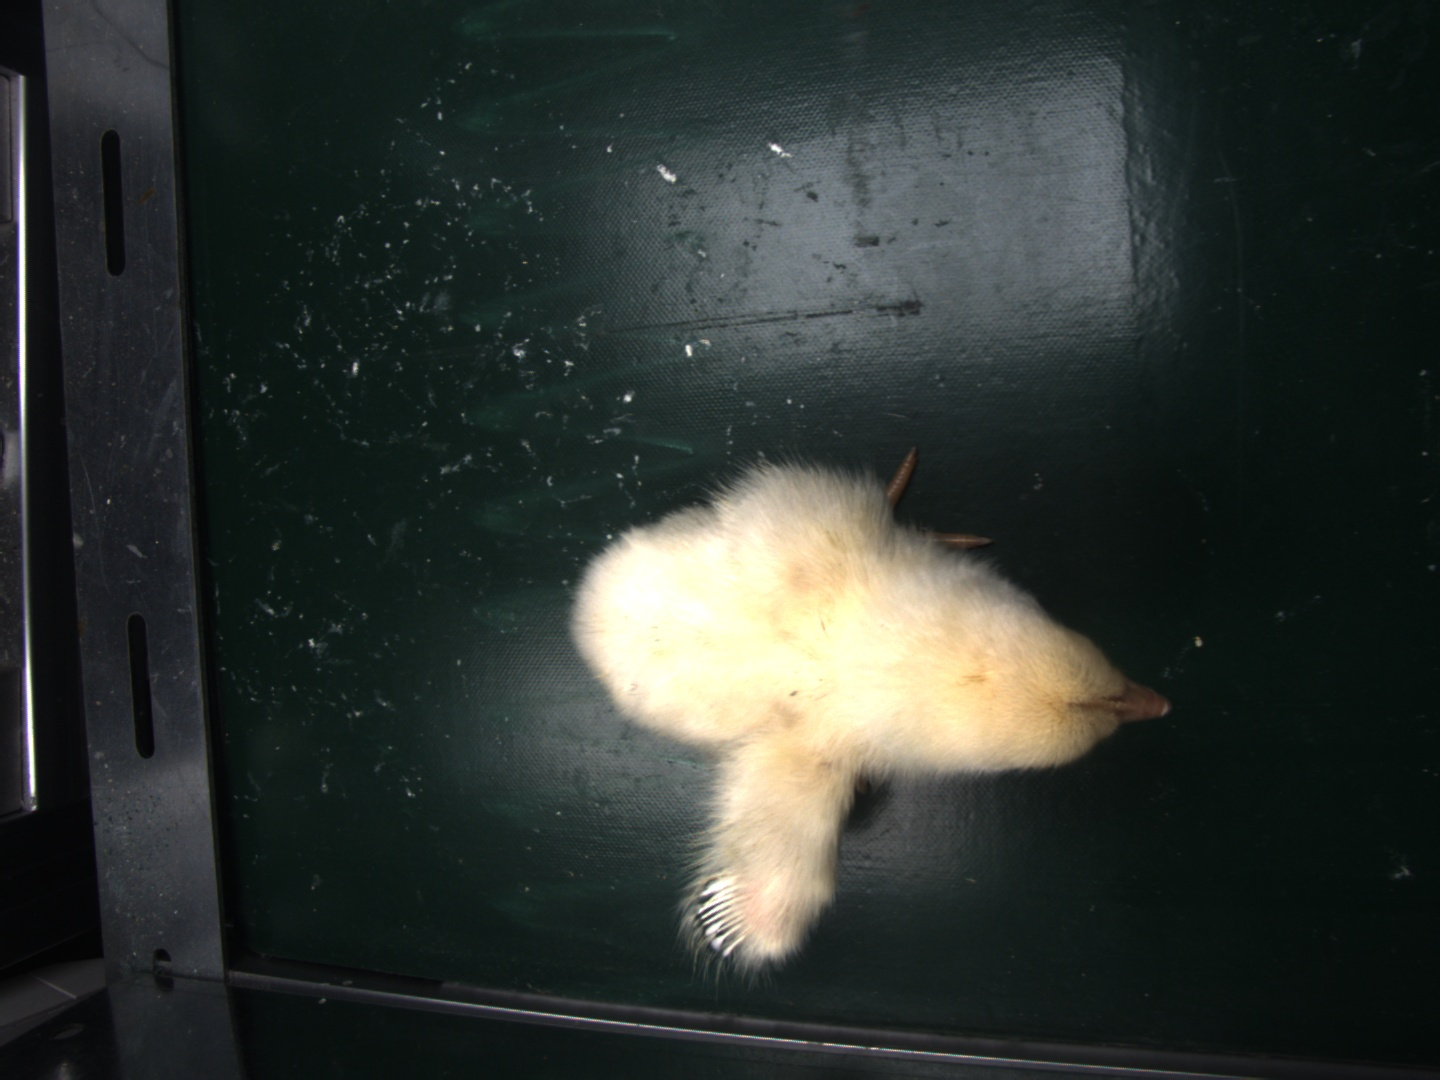male: (693, 872, 752, 961)
